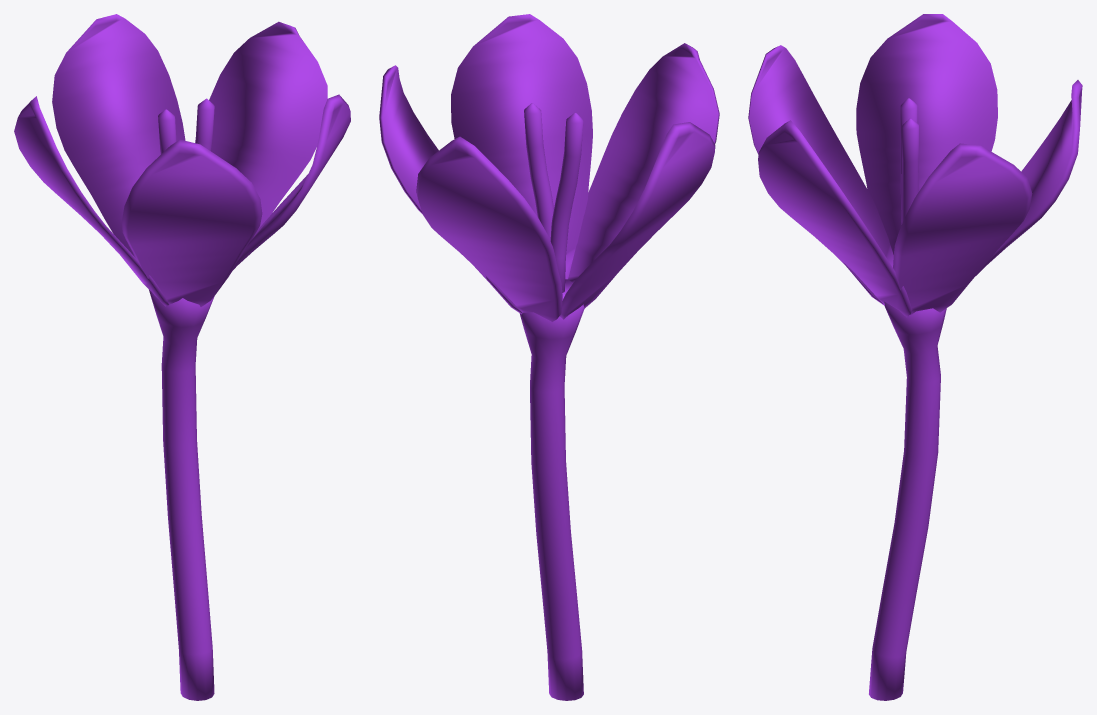
The model's file is crocus13.fbx.
3 renders of one model, left to right at view 1: azimuth 30°, elevation 25°; view 2: azimuth 150°, elevation 25°; view 3: azimuth 270°, elevation 25°, orthographic. The views are drawn at different scales.
Parts seen in each view (by area): view 1: Cube; view 2: Cube; view 3: Cube.
Boxes of the visible parts, x1=… form: Cube: x1=14, y1=14, x2=350, y2=700; Cube: x1=379, y1=14, x2=719, y2=700; Cube: x1=748, y1=14, x2=1082, y2=700.
Size of the model in its own units: 7.3 by 14.58 by 7.19.
